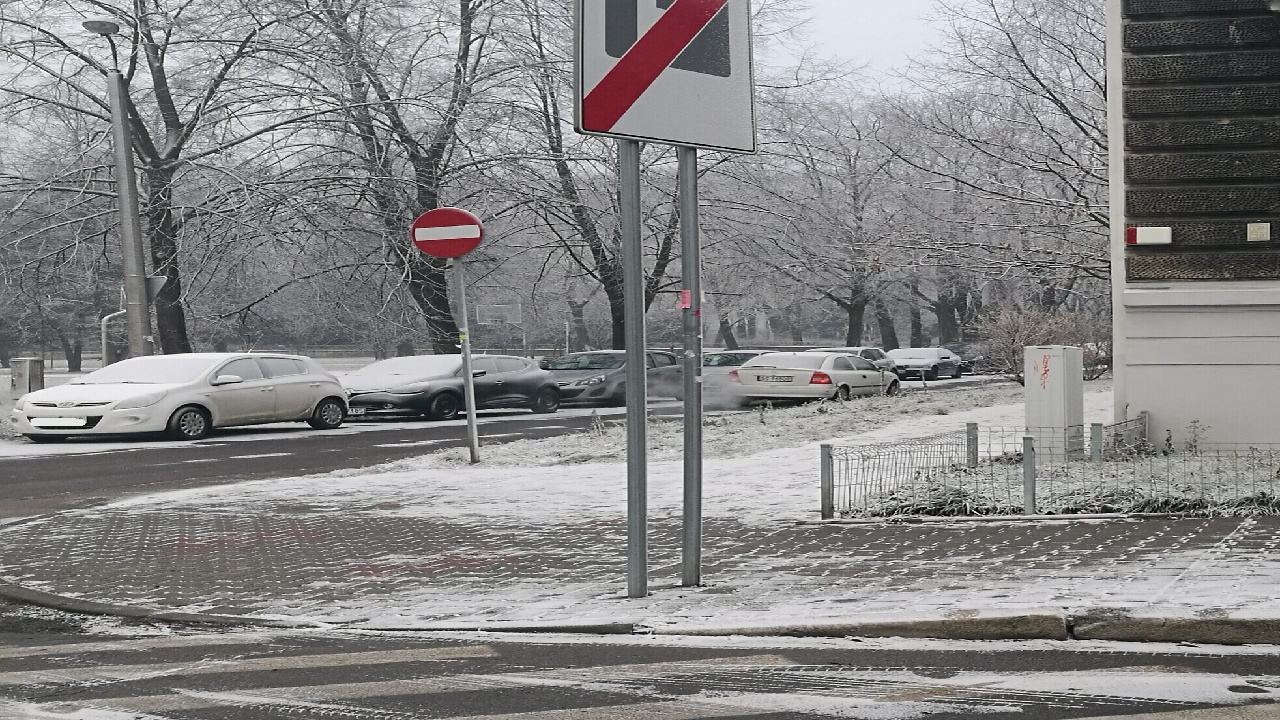B2: (409, 205, 487, 257)
